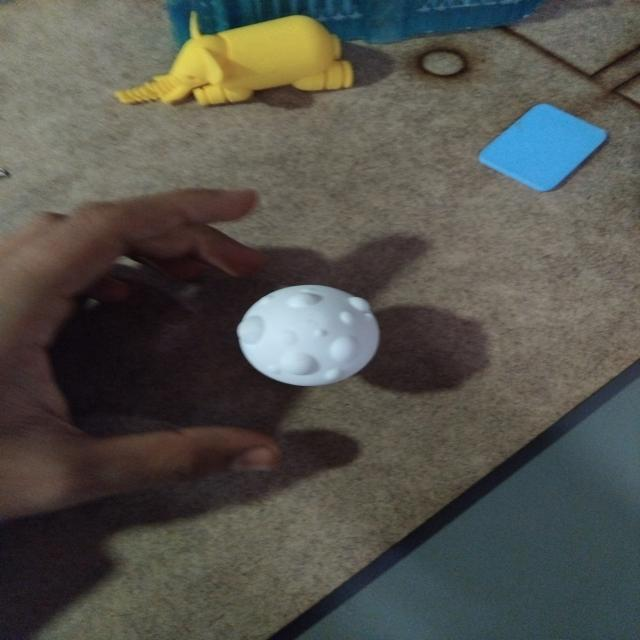Hongo: (227, 274, 391, 397)
